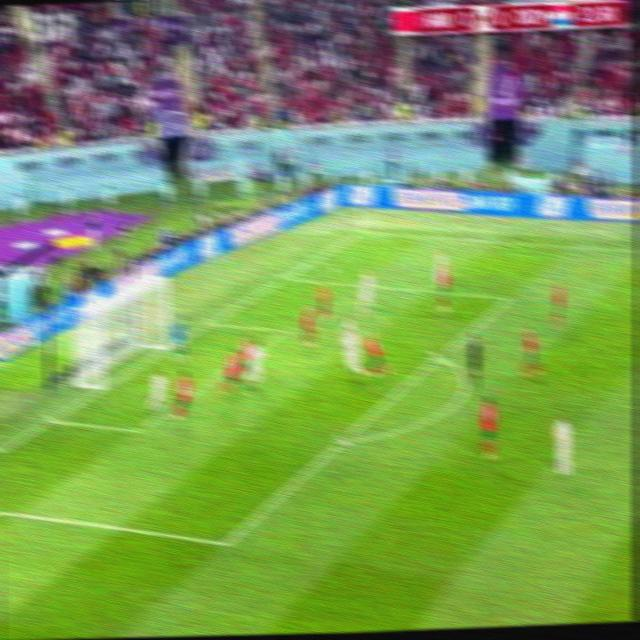bigarea_bottom_inner: (215, 527, 237, 558)
bigarea_top_inner: (498, 288, 518, 309)
bigarea_top_outter: (277, 271, 291, 284)
bottom_arc_area_intersection: (331, 427, 351, 454)
corner: (355, 226, 371, 239)
smallarea_bottom_inner: (129, 419, 145, 440)
smallarea_bottom_outter: (40, 409, 62, 432)
smallarea_top_inner: (277, 320, 292, 343)
smallarea_top_outter: (203, 315, 219, 332)
top_arc_area_intersection: (429, 345, 448, 369)
